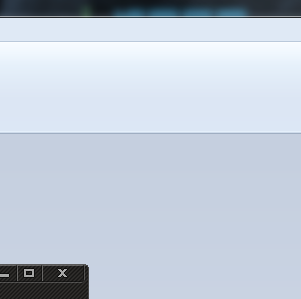close: (42, 263, 85, 282)
